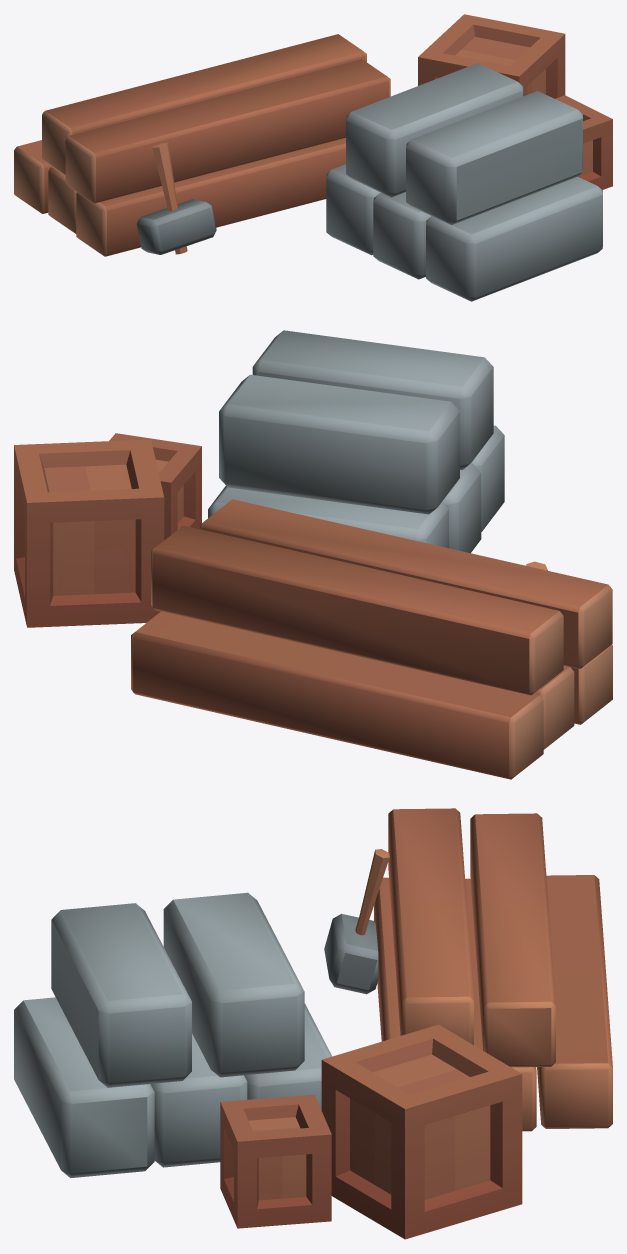
Rendered from dais.glb.
The picture shows the model from 3 angles, top to bottom: view 1: azimuth 30°, elevation 25°; view 2: azimuth 150°, elevation 25°; view 3: azimuth 270°, elevation 25°; orthographic projection. The views are drawn at different scales.
Parts seen in each view (by area): view 1: building_stage_A; view 2: building_stage_A; view 3: building_stage_A.
Boxes of the visible parts, x1,y1,x2,y2 form: building_stage_A: (14, 14, 612, 301); building_stage_A: (14, 330, 612, 779); building_stage_A: (14, 808, 612, 1239).
Bounding box in the file's own units: 1.05 × 0.2859 × 0.875.
Materials: 1 (1 with a texture image).
